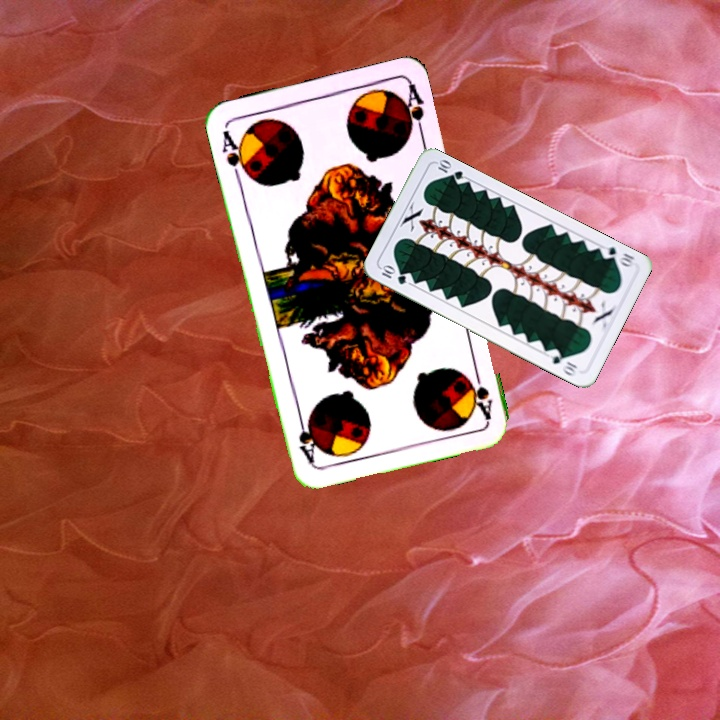G10: (597, 242, 637, 269), (377, 262, 409, 287)
SA: (218, 126, 252, 183), (463, 363, 495, 422)
